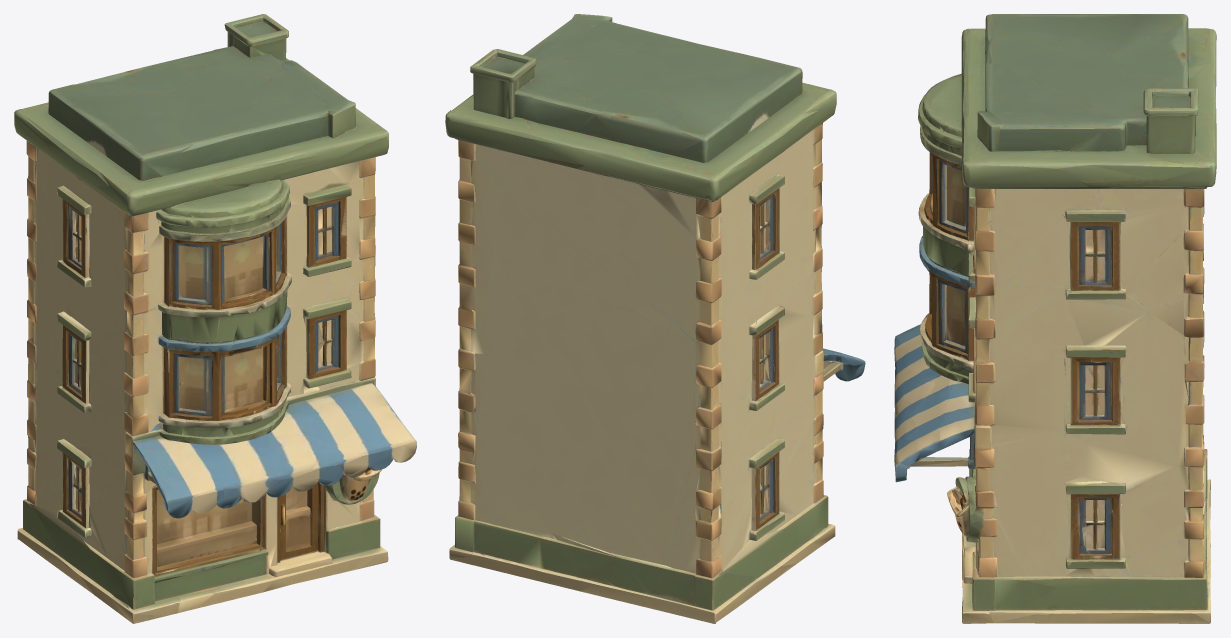
Rendered from upm_mv3pq3dik2.glb.
3 views of the same model, side by side, from view 1: azimuth 30°, elevation 25°; view 2: azimuth 150°, elevation 25°; view 3: azimuth 270°, elevation 25° (orthographic). The views are drawn at different scales.
Size of the model in its own units: 1.1 by 1.9 by 1.09.
Materials: 1 (1 with a texture image).
